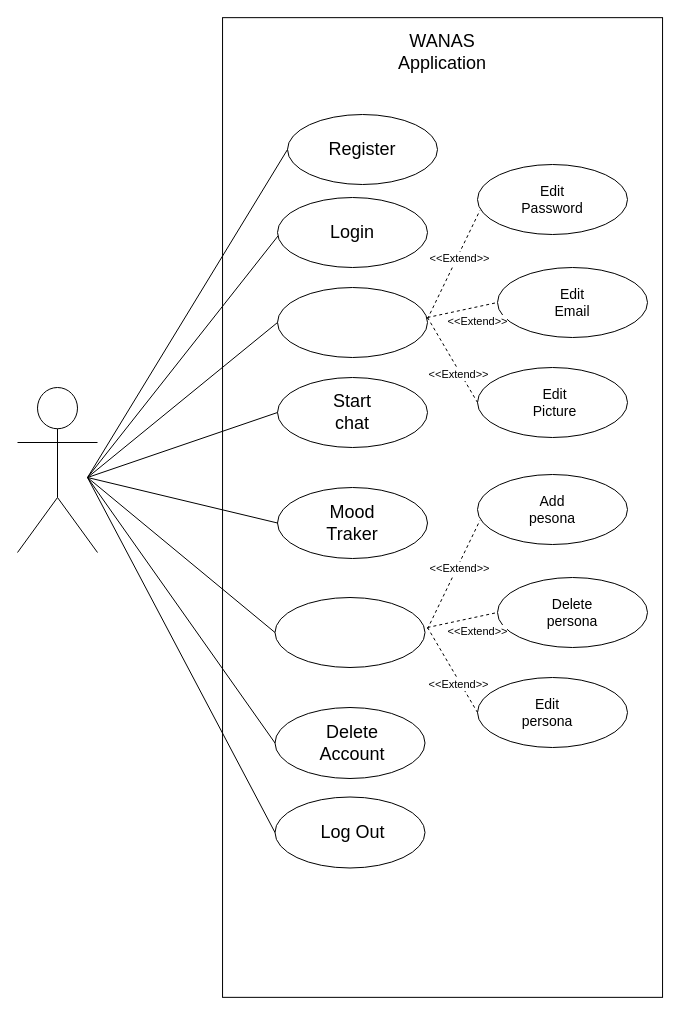
Some shapes in this 681 by 1015 pixel diagram are drawn without their labels. The shapes that lost their labels are listed below. From the top down, each one's box as (x1, y1, x2, y2) in pixels, then its label:
(276, 286, 428, 358): Edit Profile
(16, 386, 98, 552): User
(274, 596, 425, 668): Personas
